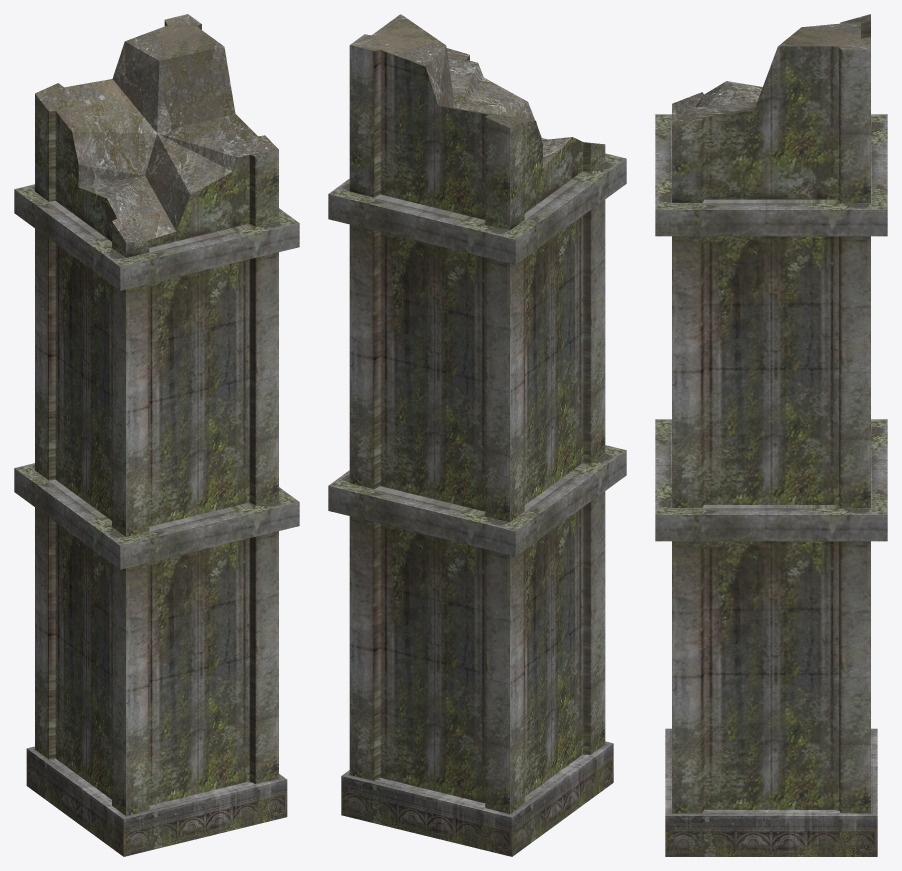
File: bg_lut_lucastle_brosepillar02b_sm_psy.FBX
The picture shows the model from 3 angles, left to right: view 1: azimuth 30°, elevation 25°; view 2: azimuth 150°, elevation 25°; view 3: azimuth 270°, elevation 25°; orthographic projection. The views are drawn at different scales.
Parts seen in each view (by area): view 1: bg_lut_lucastle_brosepillar02b_sm_psy; view 2: bg_lut_lucastle_brosepillar02b_sm_psy; view 3: bg_lut_lucastle_brosepillar02b_sm_psy.
Boxes of the visible parts, <box> form: bg_lut_lucastle_brosepillar02b_sm_psy: <box>14,14,299,856</box>; bg_lut_lucastle_brosepillar02b_sm_psy: <box>328,14,626,856</box>; bg_lut_lucastle_brosepillar02b_sm_psy: <box>655,14,887,856</box>.
Size of the model in its own units: 123 by 481 by 126.
